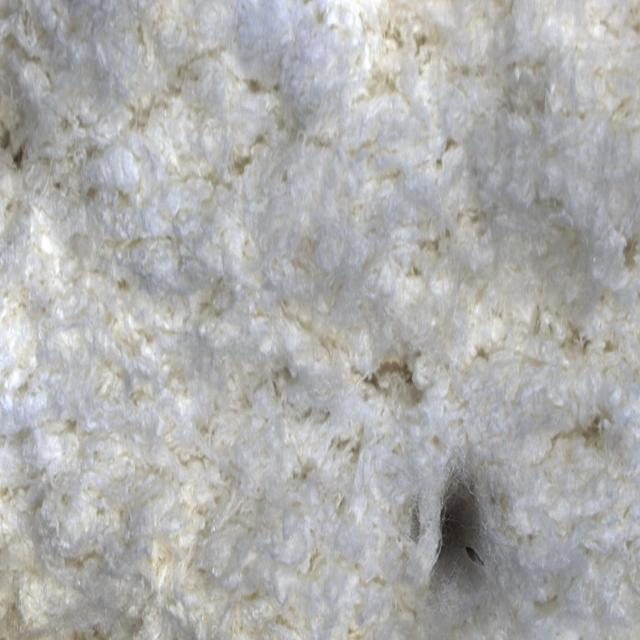dust: (378, 415, 555, 635)
